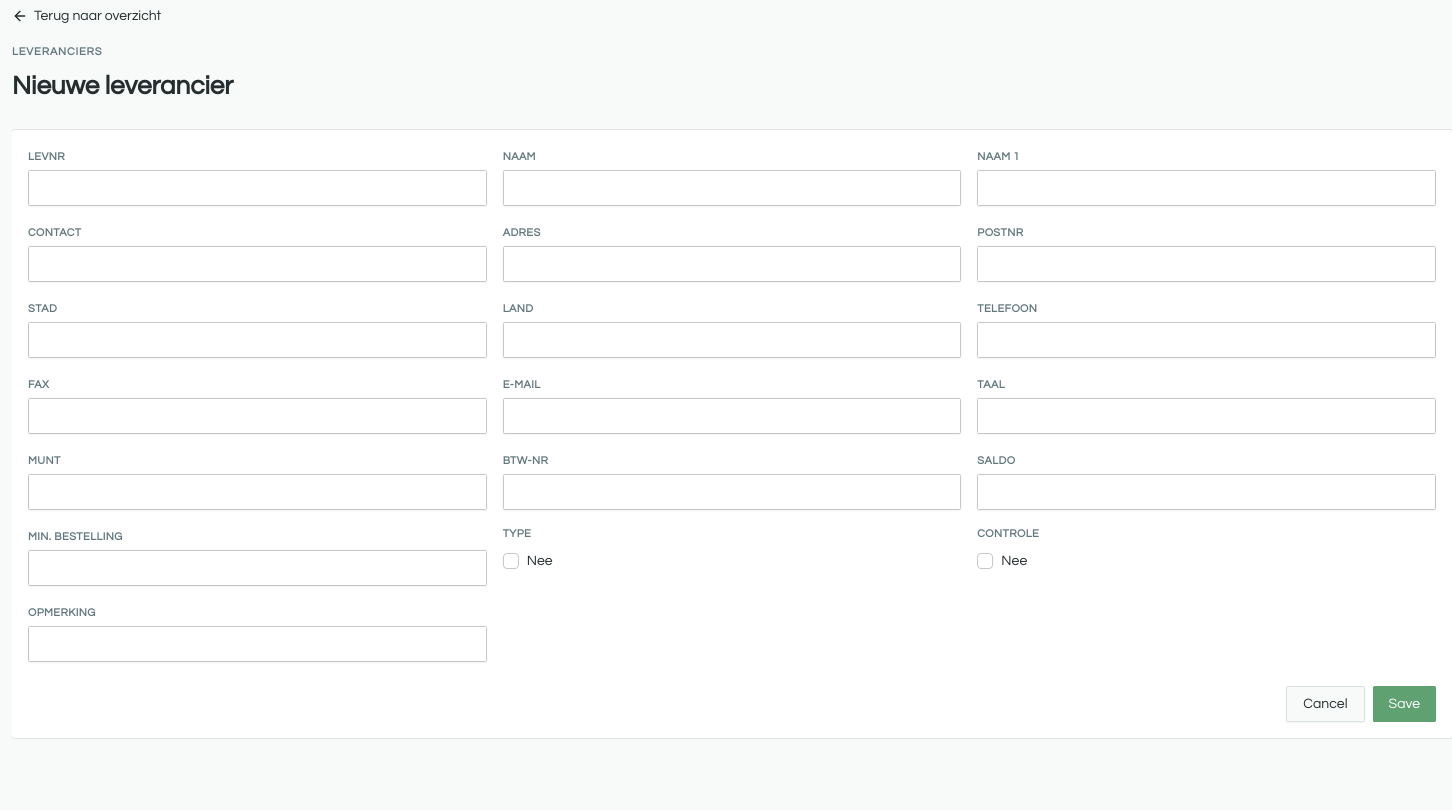
LeverancierCreatePage › rejects a missing/non-numeric levnr
The width and height of the screenshot is (1452, 810).
Click the button "Save".
click(1404, 704)  # box [1372, 686, 1436, 722]
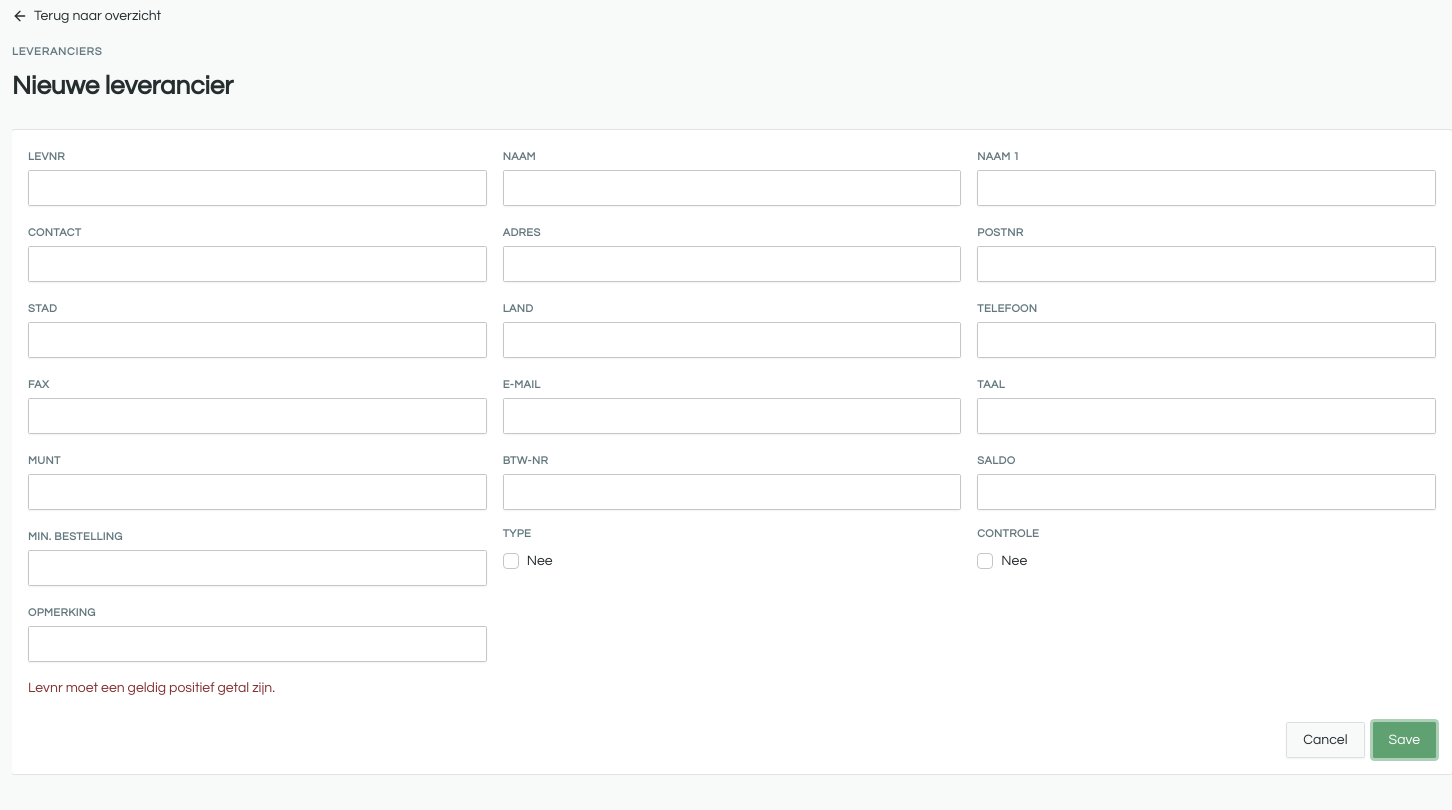
Expected: the text "Levnr moet een geldig positief getal zijn." is shown, [28, 680, 275, 694]
